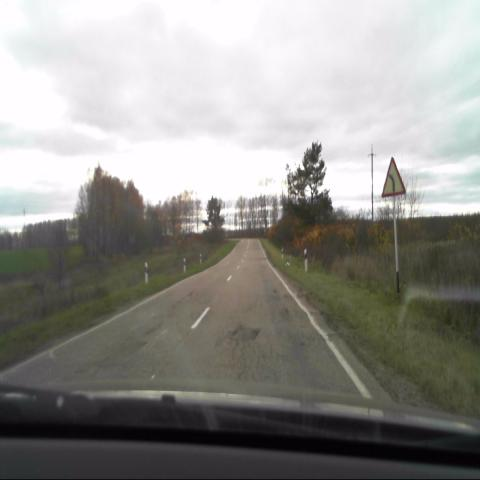1_11_1: (382, 157, 408, 197)
